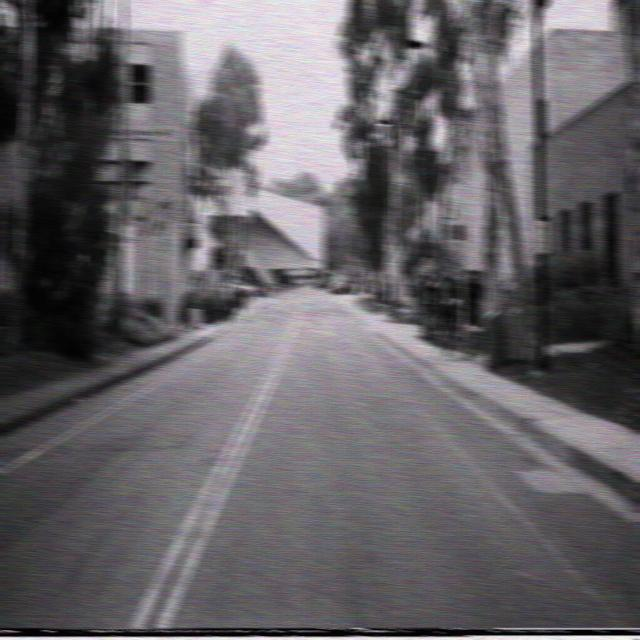pedestrianCrossing: (384, 233, 401, 261)
